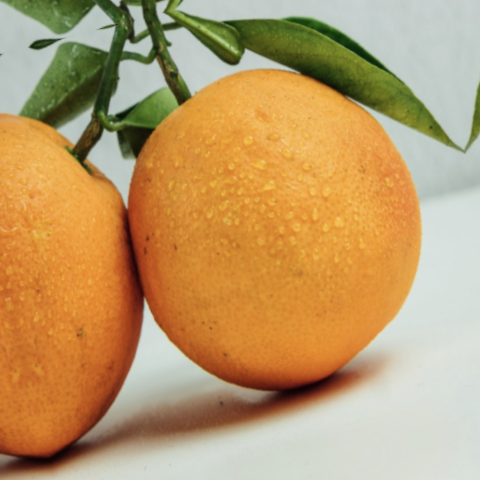orange: (57, 0, 480, 448)
